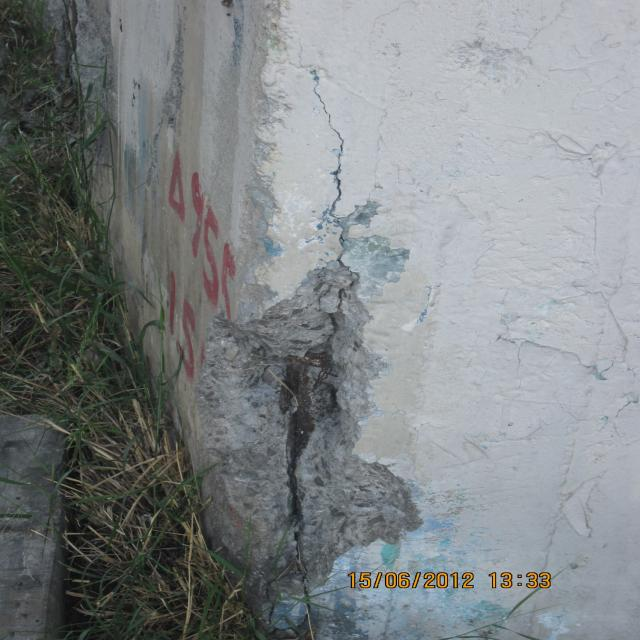corrosion: (269, 345, 354, 536)
